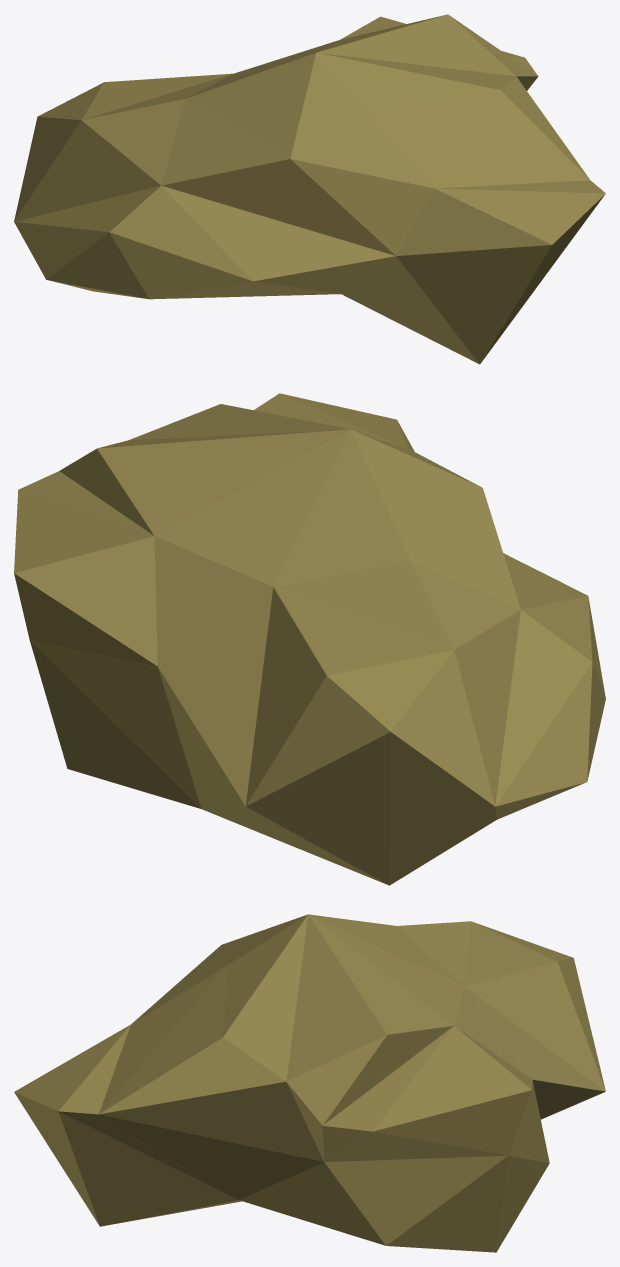
Rendered from low poly rock small.fbx.
3 renders of one model, top to bottom at view 1: azimuth 30°, elevation 25°; view 2: azimuth 150°, elevation 25°; view 3: azimuth 270°, elevation 25°, orthographic. The views are drawn at different scales.
Parts seen in each view (by area): view 1: Plane.017; view 2: Plane.017; view 3: Plane.017.
Part boxes in pixels (<box>): Plane.017: <box>14,14,605,364</box>; Plane.017: <box>14,393,605,885</box>; Plane.017: <box>14,914,605,1252</box>.
Bounding box in the file's own units: 273 × 145 × 277.
